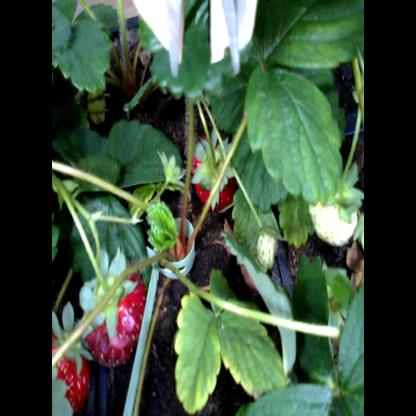ripe: (84, 244, 142, 371), (52, 309, 94, 407), (188, 134, 240, 212)
unripe: (306, 169, 362, 248), (254, 228, 281, 271)
